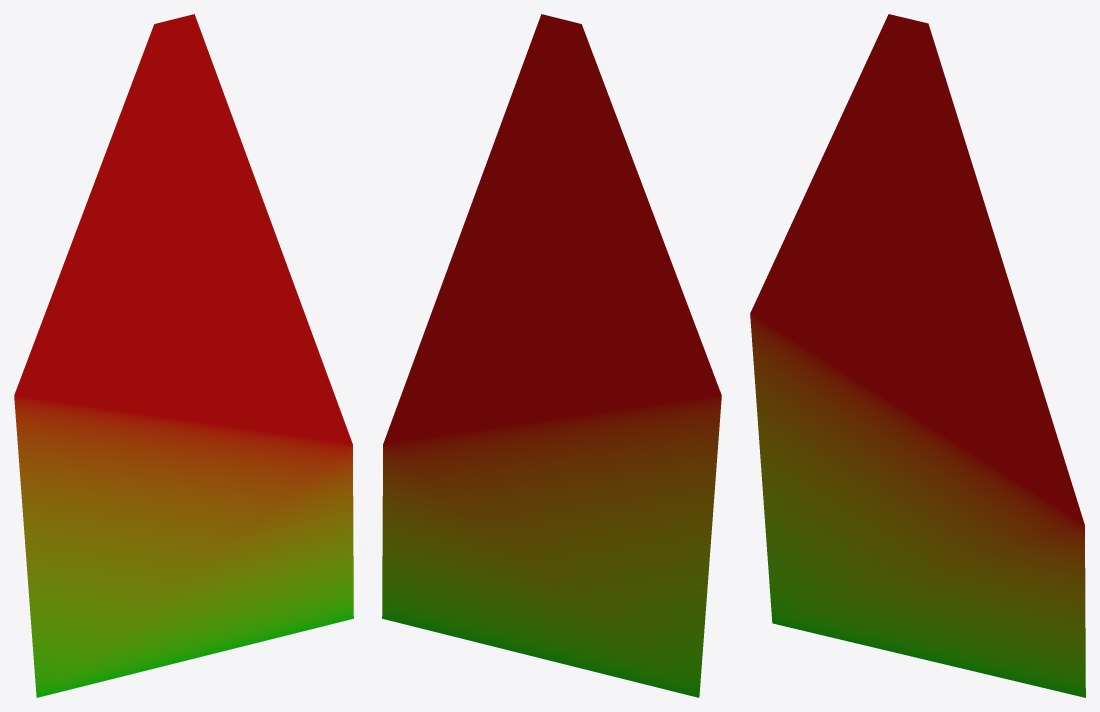
Rendered from Var5_LOD4.fbx.
3 views of the same model, side by side, from view 1: azimuth 30°, elevation 25°; view 2: azimuth 150°, elevation 25°; view 3: azimuth 330°, elevation 25° (orthographic).
Visible parts, largest first — view 1: _6e5b_Var5_LOD4; view 2: _6e5b_Var5_LOD4; view 3: _6e5b_Var5_LOD4.
Part boxes in pixels (x1=…): _6e5b_Var5_LOD4: x1=14, y1=14, x2=353, y2=697; _6e5b_Var5_LOD4: x1=382, y1=14, x2=721, y2=697; _6e5b_Var5_LOD4: x1=750, y1=14, x2=1085, y2=697.
Bounding box in the file's own units: 20.14 × 36.56 × 1.79e-06.
